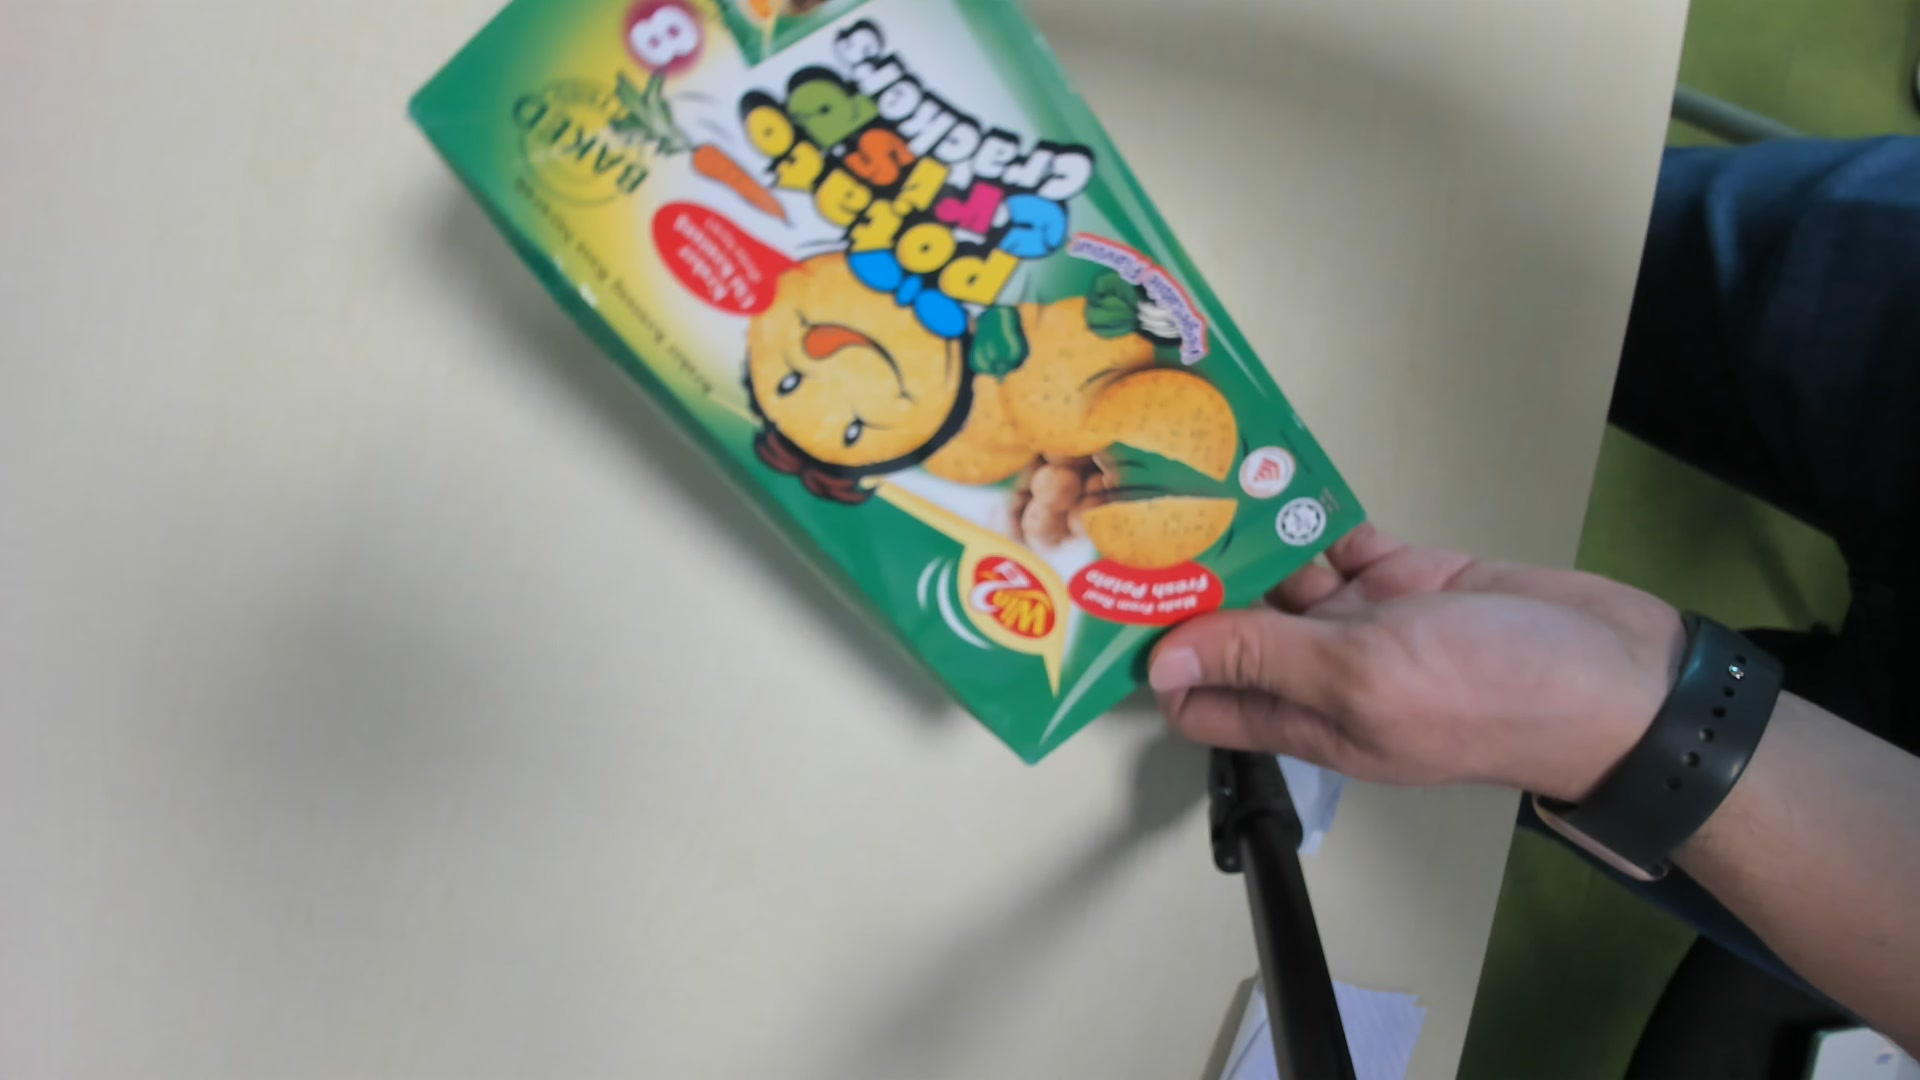PotatoChipsKeropok_100-200g_Halal_Healthy: (396, 1, 1364, 774)
